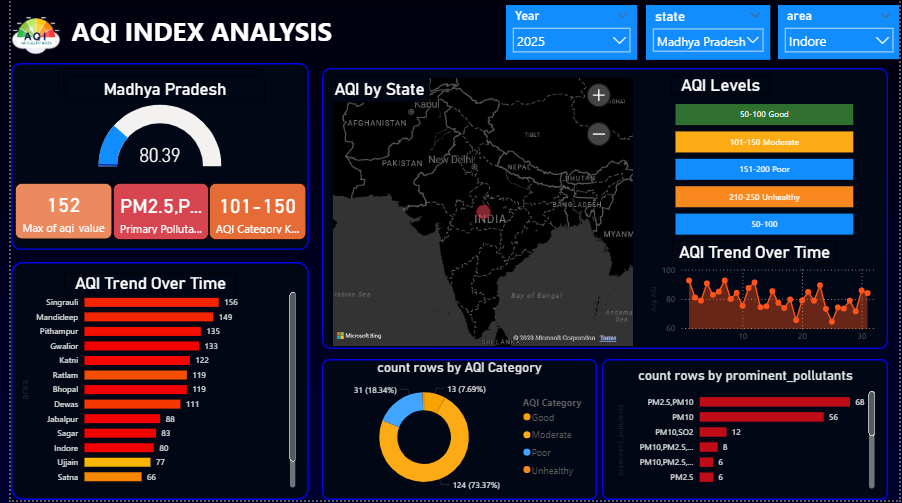

This screenshot's page, from the dashboard's own definition file:
{"tool":"powerbi","page":{"name":"AQI INDEX ANALYSIS","canvas":[1280,720],"ordinal":0},"visuals":[{"type":"shape","box":[0,377.3,429.1,342.7],"z":0},{"type":"shape","box":[447.8,97.9,815,404.6],"z":1000},{"type":"shape","box":[0,90.7,429.1,269.3],"z":2000},{"type":"textbox","box":[82.1,14.4,406.1,66.2],"z":3000},{"type":"image","box":[0,21.6,72,59],"z":4000},{"type":"gauge","fields":{"Y":["day_wise_aqi_data.Avg AQI"]},"box":[121,136.8,187.2,116.6],"z":5000},{"type":"slicer","fields":{"Values":["Calendor Table.Year"]},"box":[712.8,7.2,188.6,79.2],"z":6000},{"type":"slicer","fields":{"Values":["day_wise_aqi_data.state"]},"box":[914.4,7.2,178.6,79.2],"z":7000},{"type":"slicer","fields":{"Values":["day_wise_aqi_data.area"]},"box":[1104.5,7.2,175.7,77.8],"z":8000},{"type":"card","fields":{"Values":["Max(day_wise_aqi_data.aqi_value)"]},"box":[5.8,263.5,139.7,80.6],"z":9000},{"type":"card","fields":{"Values":["Calendor Table.Primary Pollutant"]},"box":[146.9,263.5,138.2,82.1],"z":10000},{"type":"card","fields":{"Values":["day_wise_aqi_data.AQI Category KPI"]},"box":[285.1,263.5,139.7,82.1],"z":11000},{"type":"card","fields":{"Values":["day_wise_aqi_data.KPI Title"]},"box":[67.7,97.9,288,38.9],"z":12000},{"type":"map","fields":{"Category":["day_wise_aqi_data.state"],"Size":["day_wise_aqi_data.Avg AQI"]},"box":[459.4,108,442.1,394.6],"z":13000},{"type":"barChart","fields":{"Category":["day_wise_aqi_data.AQI Category"],"Y":["day_wise_aqi_data.label"]},"box":[951.8,136.8,266.4,207.4],"z":14000},{"type":"card","fields":{"Values":["day_wise_aqi_data.KPI Title"]},"box":[77.7,107.9,288,38.9],"z":15000},{"type":"card","fields":{"Values":["day_wise_aqi_data.AQI Levels Title"]},"box":[950.4,108,142.6,28.8],"z":16000},{"type":"card","fields":{"Values":["day_wise_aqi_data.States"]},"box":[459.4,108,142.6,38.9],"z":17000},{"type":"areaChart","fields":{"Category":["Calendor Table.Date.Variation.Date Hierarchy.Day"],"Y":["day_wise_aqi_data.Avg AQI"]},"box":[914.4,374.4,334.1,128.2],"z":18000},{"type":"card","fields":{"Values":["day_wise_aqi_data.trend"]},"box":[951.8,345.6,237.6,33.1],"z":19000},{"type":"barChart","fields":{"Category":["day_wise_aqi_data.area"],"Y":["day_wise_aqi_data.Avg AQI"]},"box":[5.8,407.5,409,299.5],"z":20000},{"type":"card","fields":{"Values":["Calendor Table.over time"]},"box":[76.3,393.1,249.1,28.8],"z":21000},{"type":"shape","box":[447.8,517,396,203],"z":22000},{"type":"donutChart","fields":{"Category":["day_wise_aqi_data.AQI Category"],"Y":["day_wise_aqi_data.count rows"]},"box":[447.8,517,396,203],"z":23000},{"type":"shape","box":[851,517,411.8,203],"z":24000},{"type":"clusteredBarChart","fields":{"Category":["day_wise_aqi_data.prominent_pollutants"],"Y":["day_wise_aqi_data.count rows"]},"box":[866.9,528.5,381.6,180],"z":25000}]}

Visuals, with their boxes in screenshot pixels (x1, y1, x2, y2), scaled from the page's 1280x720 canvas onto the 902x503 screenshot:
shape: <box>0,264,302,502</box>
shape: <box>316,68,890,351</box>
shape: <box>0,63,302,252</box>
textbox: <box>58,10,344,56</box>
image: <box>0,15,51,56</box>
gauge - day_wise_aqi_data.Avg AQI: <box>85,96,217,177</box>
slicer - Calendor Table.Year: <box>502,5,635,60</box>
slicer - day_wise_aqi_data.state: <box>644,5,770,60</box>
slicer - day_wise_aqi_data.area: <box>778,5,901,59</box>
card - Max(day_wise_aqi_data.aqi_value): <box>4,184,103,240</box>
card - Calendor Table.Primary Pollutant: <box>104,184,201,241</box>
card - day_wise_aqi_data.AQI Category KPI: <box>201,184,299,241</box>
card - day_wise_aqi_data.KPI Title: <box>48,68,251,96</box>
map - day_wise_aqi_data.state x day_wise_aqi_data.Avg AQI: <box>324,75,635,351</box>
barChart - day_wise_aqi_data.AQI Category x day_wise_aqi_data.label: <box>671,96,858,240</box>
card - day_wise_aqi_data.KPI Title: <box>55,75,258,103</box>
card - day_wise_aqi_data.AQI Levels Title: <box>670,75,770,96</box>
card - day_wise_aqi_data.States: <box>324,75,424,103</box>
areaChart - Calendor Table.Date.Variation.Date Hierarchy.Day x day_wise_aqi_data.Avg AQI: <box>644,262,880,351</box>
card - day_wise_aqi_data.trend: <box>671,241,838,265</box>
barChart - day_wise_aqi_data.area x day_wise_aqi_data.Avg AQI: <box>4,285,292,494</box>
card - Calendor Table.over time: <box>54,275,229,295</box>
shape: <box>316,361,595,502</box>
donutChart - day_wise_aqi_data.AQI Category x day_wise_aqi_data.count rows: <box>316,361,595,502</box>
shape: <box>600,361,890,502</box>
clusteredBarChart - day_wise_aqi_data.prominent_pollutants x day_wise_aqi_data.count rows: <box>611,369,880,495</box>
